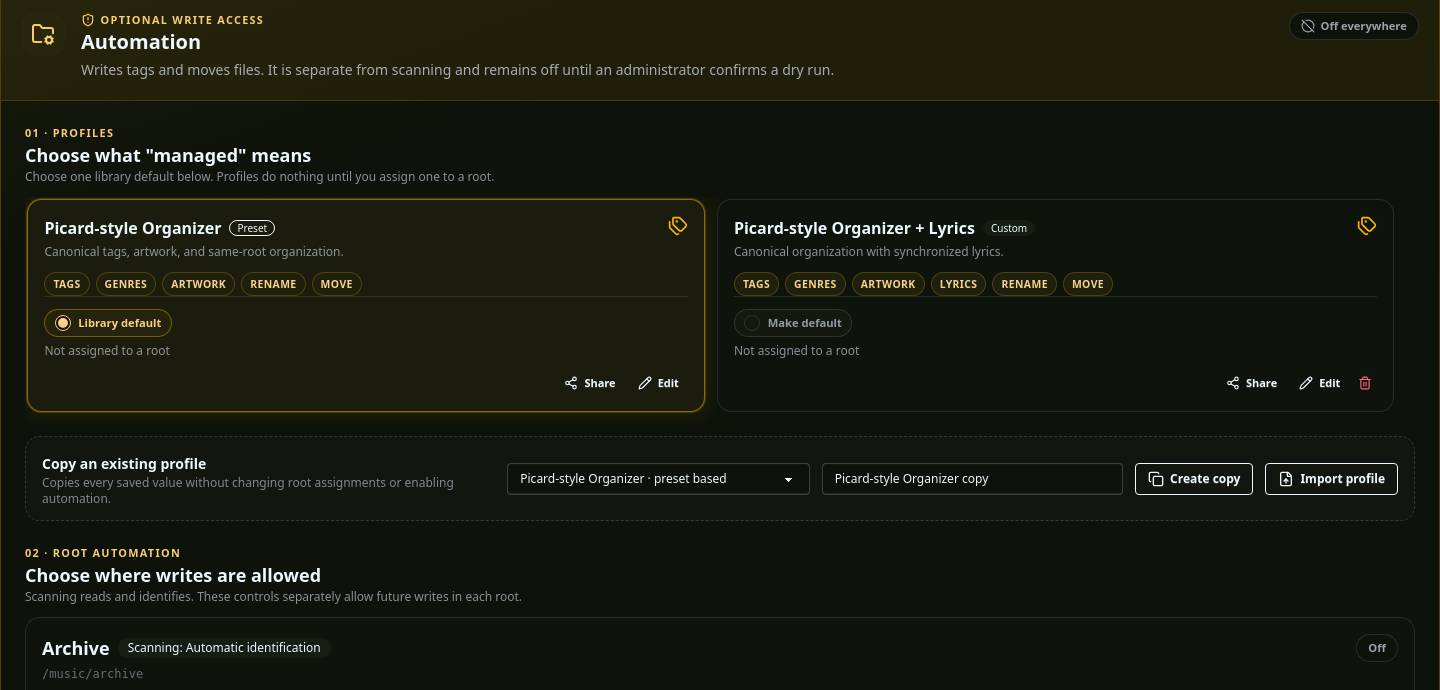
Test: SettingsLibraryManagement › sets the library default from the profile cards and updates inherited roots
What coordinates should you click on to do the following:
click the radio button labelled "Make default"
I would click on:
 (752, 323)
Its box is [744,315,760,331].
(page scrolled)
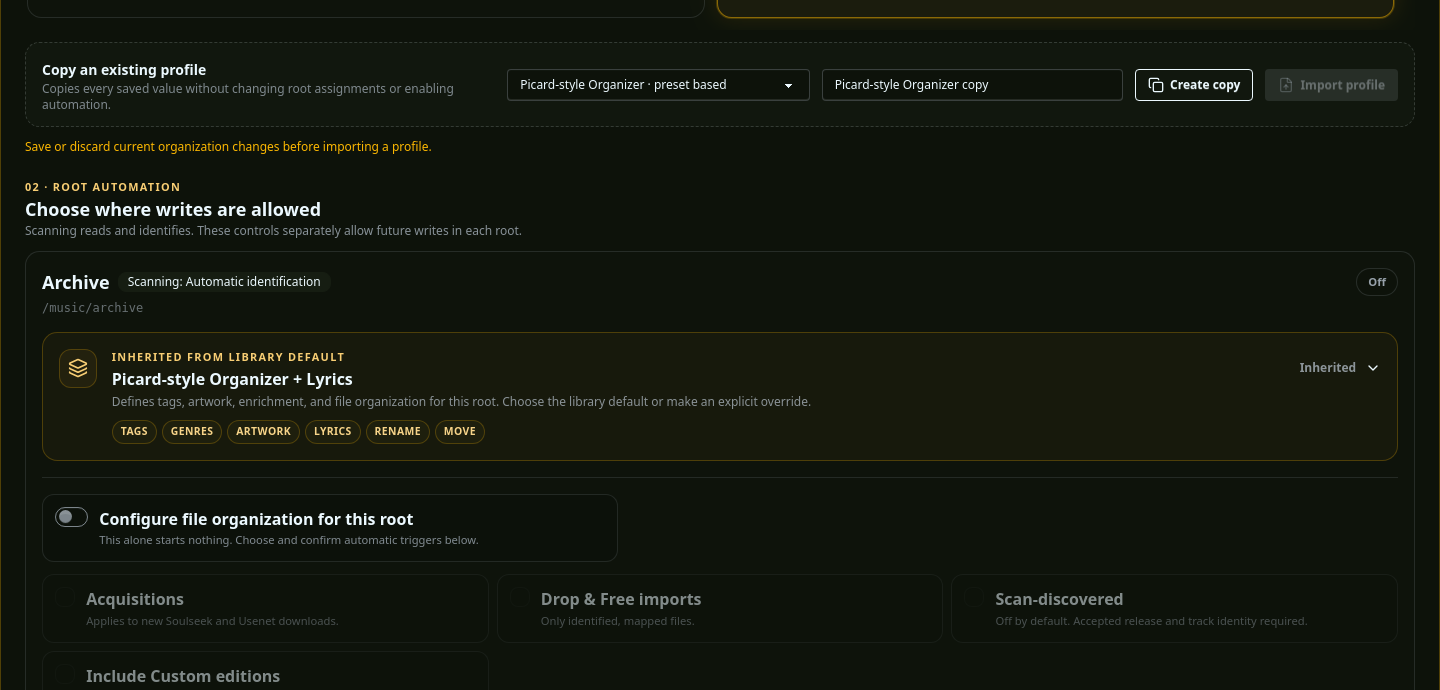
Expected: the button with aria-label "Choose Management profile for Archive" shows "Picard-style Organizer + Lyrics"
What coordinates should you click on to do the following:
click the button with aria-label "Choose Management profile for Archive"
I would click on:
 (720, 396)
Its box is [43,333,1397,460].
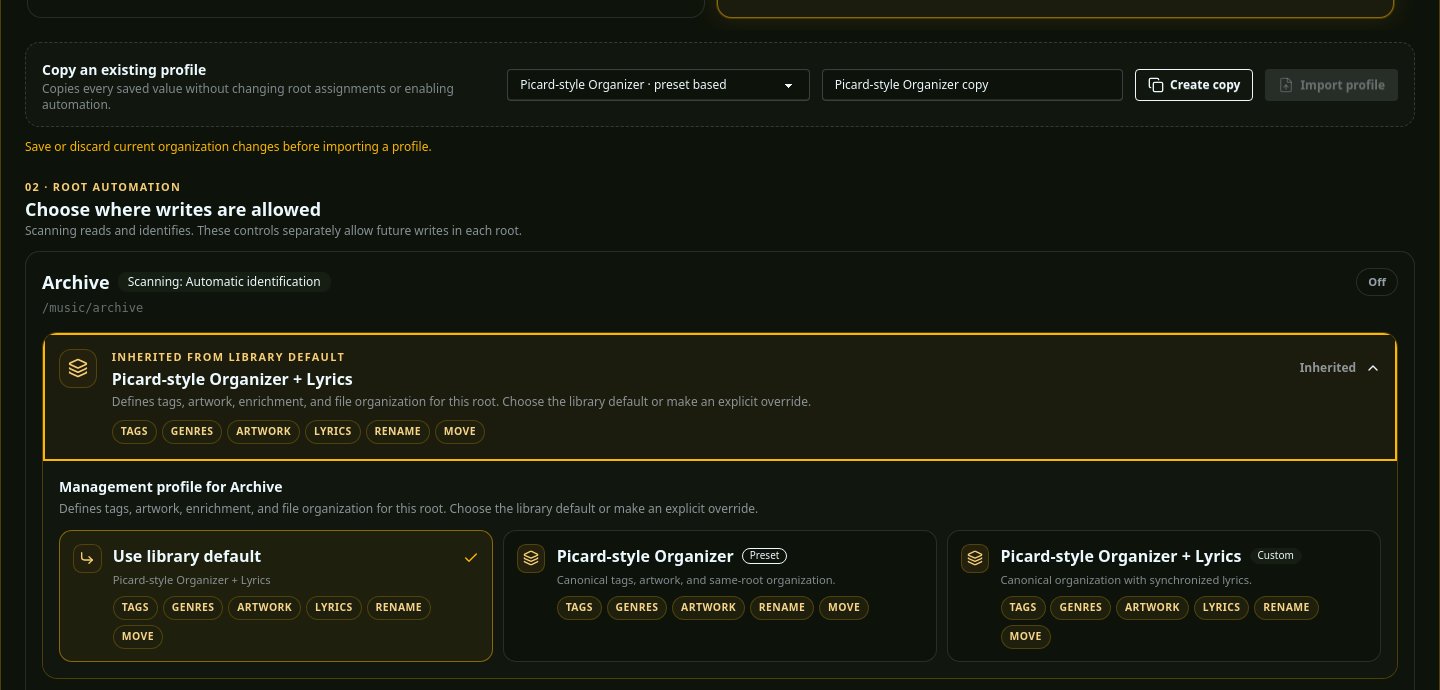
What coordinates should you click on to do the following:
click the radio button with aria-label "Use Picard-style Organizer"
I would click on:
 (720, 596)
Its box is [503,530,937,662].
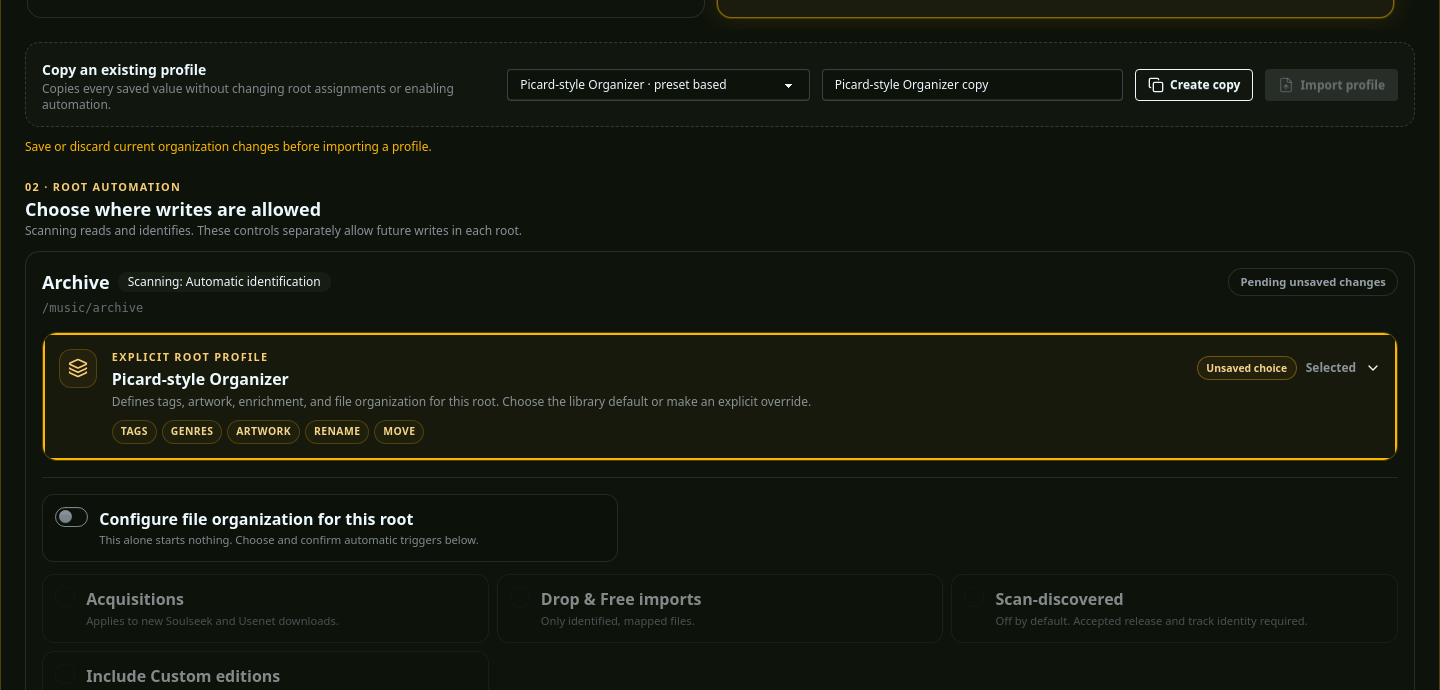
Expected: the button with aria-label "Choose Management profile for Archive" shows "Explicit root profile", [43,333,1397,460]
Expected: the button with aria-label "Choose Management profile for Archive" shows "Unsaved choice", [43,333,1397,460]
